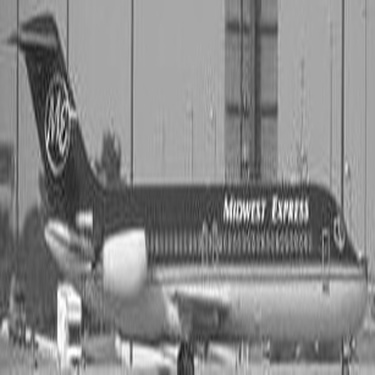airplane: (3, 1, 370, 373)
